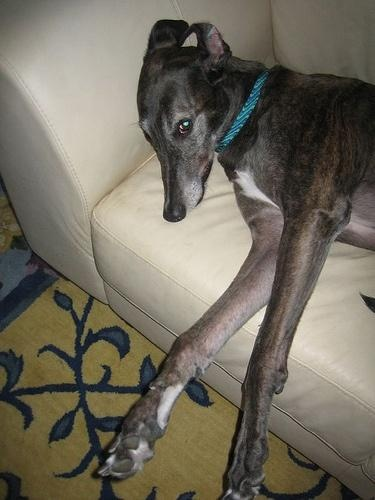dog: (98, 19, 374, 500)
sofa: (1, 1, 375, 500)
